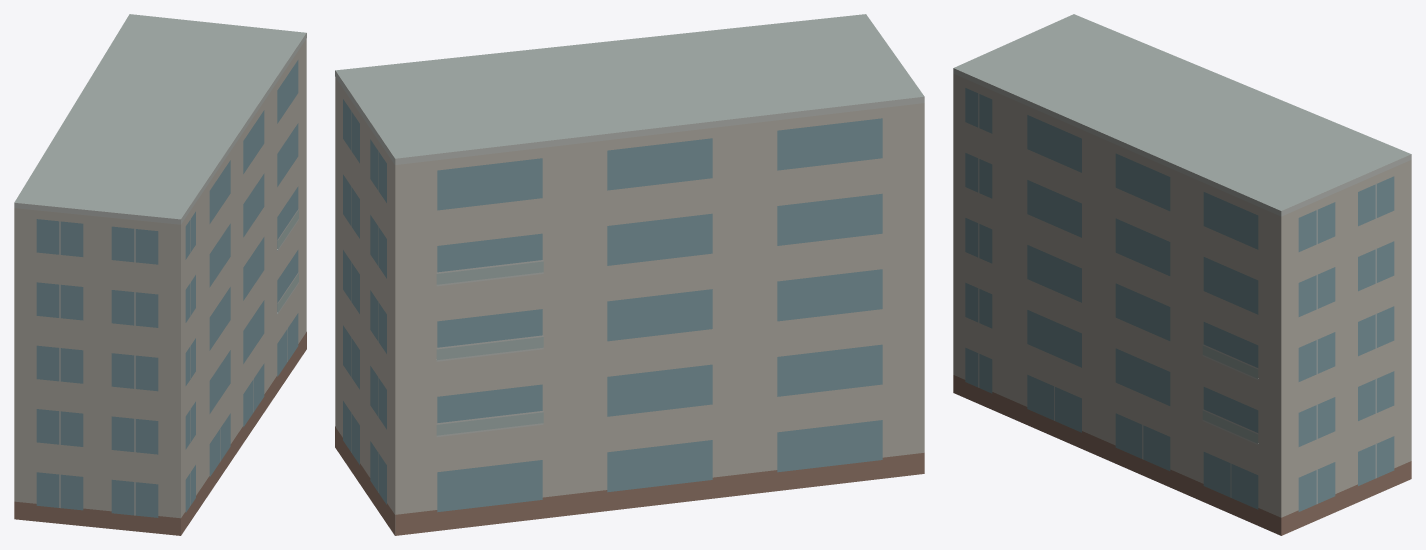
The model's file is survey-upis-32985032.glb.
3 views of the same model, side by side, from view 1: azimuth 30°, elevation 25°; view 2: azimuth 150°, elevation 25°; view 3: azimuth 270°, elevation 25° (orthographic). The views are drawn at different scales.
Visible parts, largest first — view 1: survey-upis-32985032.tmp; view 2: survey-upis-32985032.tmp; view 3: survey-upis-32985032.tmp.
Boxes of the visible parts, <box> form: survey-upis-32985032.tmp: <box>14,14,306,535</box>; survey-upis-32985032.tmp: <box>335,14,924,535</box>; survey-upis-32985032.tmp: <box>953,14,1411,535</box>.
Size of the model in its own units: 18.62 by 14.3 by 18.29.
